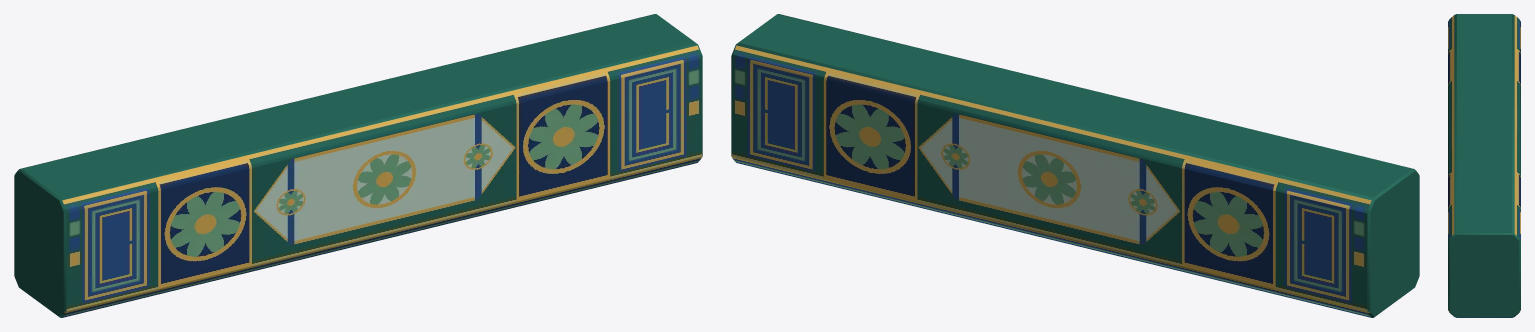
File: efang-sushi.glb
3 renders of one model, left to right at view 1: azimuth 30°, elevation 25°; view 2: azimuth 150°, elevation 25°; view 3: azimuth 270°, elevation 25°, orthographic. The views are drawn at different scales.
Visible parts, largest first — view 1: efang; view 2: efang; view 3: efang.
Part boxes in pixels (x1,y1,x2,y2): efang: (14, 14, 702, 317); efang: (731, 14, 1419, 317); efang: (1448, 14, 1520, 317).
Bounding box in the file's own units: 2 × 0.36 × 0.28.
1 material, 1 textured.
